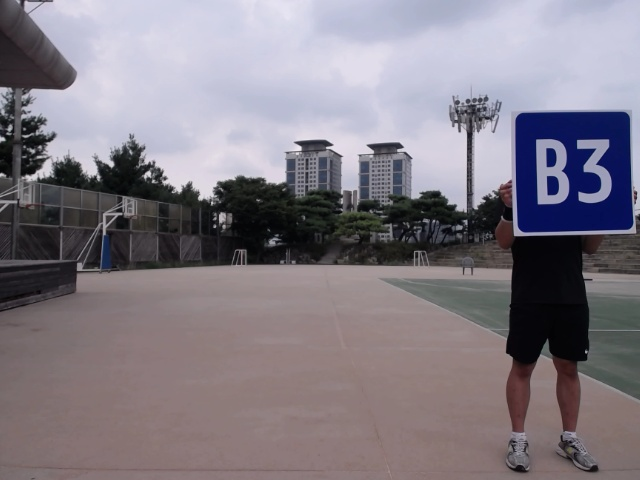delivery_b3: (510, 111, 637, 237)
